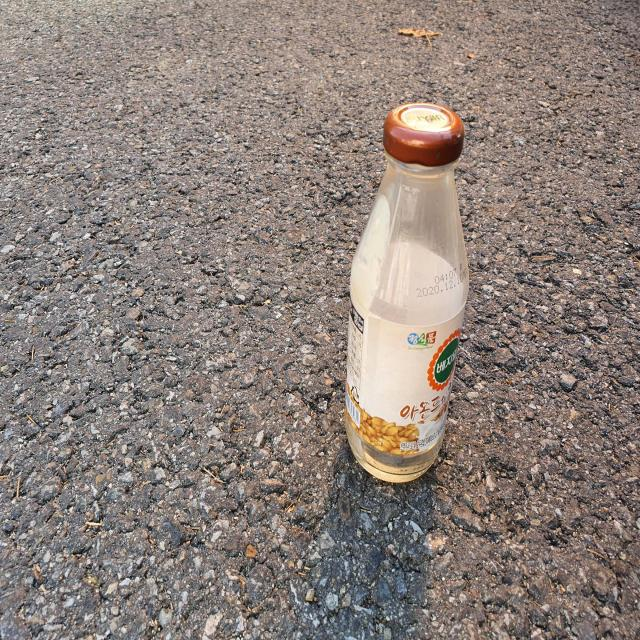glass: (345, 102, 470, 483)
